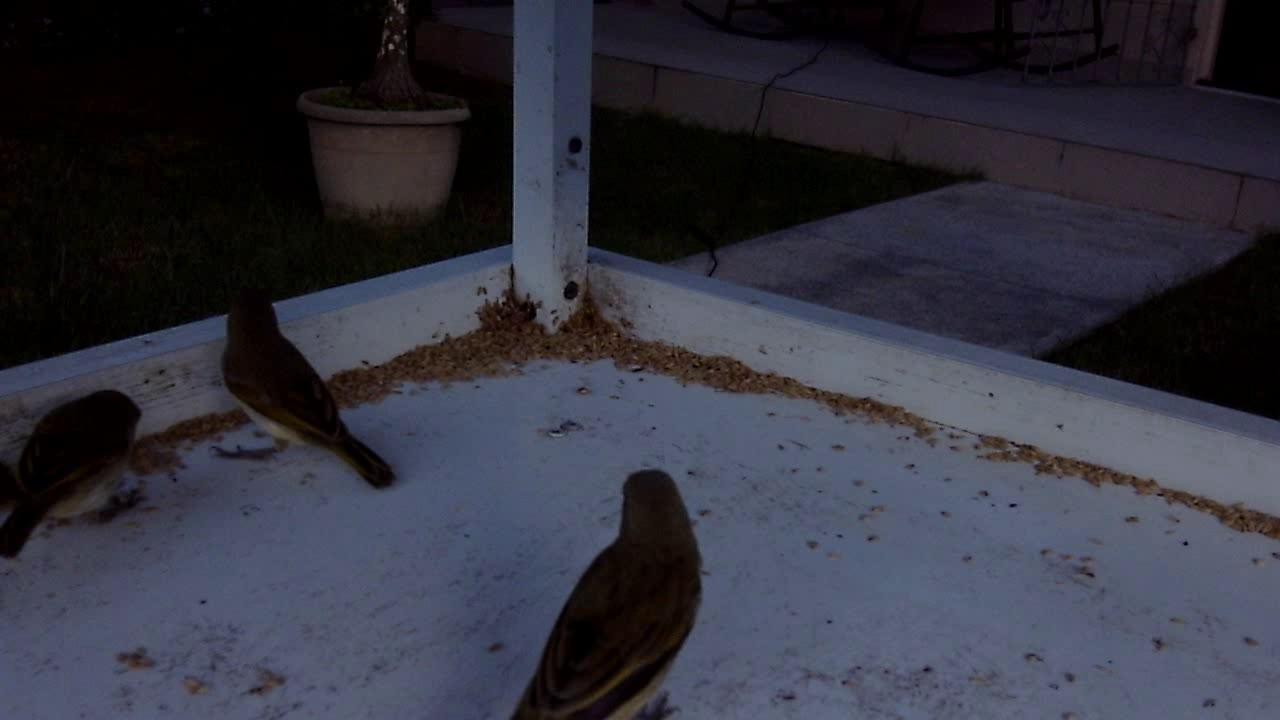canario_do_amazonas: (493, 463, 712, 716), (209, 277, 397, 491), (1, 379, 160, 565)
